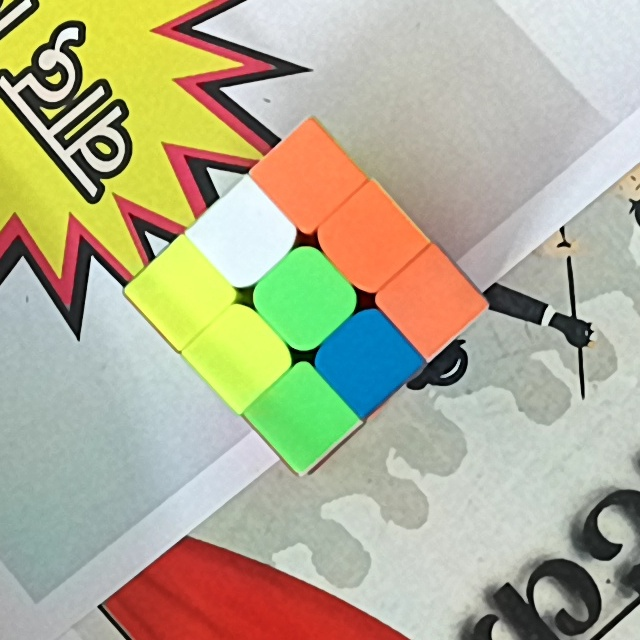tile: (274, 271, 334, 329), (274, 151, 335, 208), (271, 390, 332, 446), (341, 330, 397, 388), (152, 268, 208, 325), (407, 270, 459, 330), (209, 327, 263, 384), (345, 212, 398, 267), (214, 212, 268, 263)
